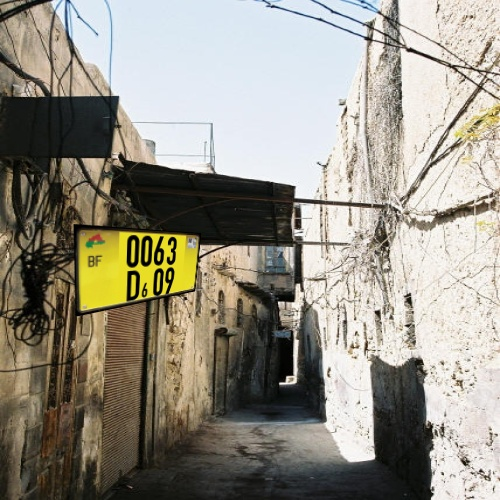plate: (61, 210, 209, 325)
